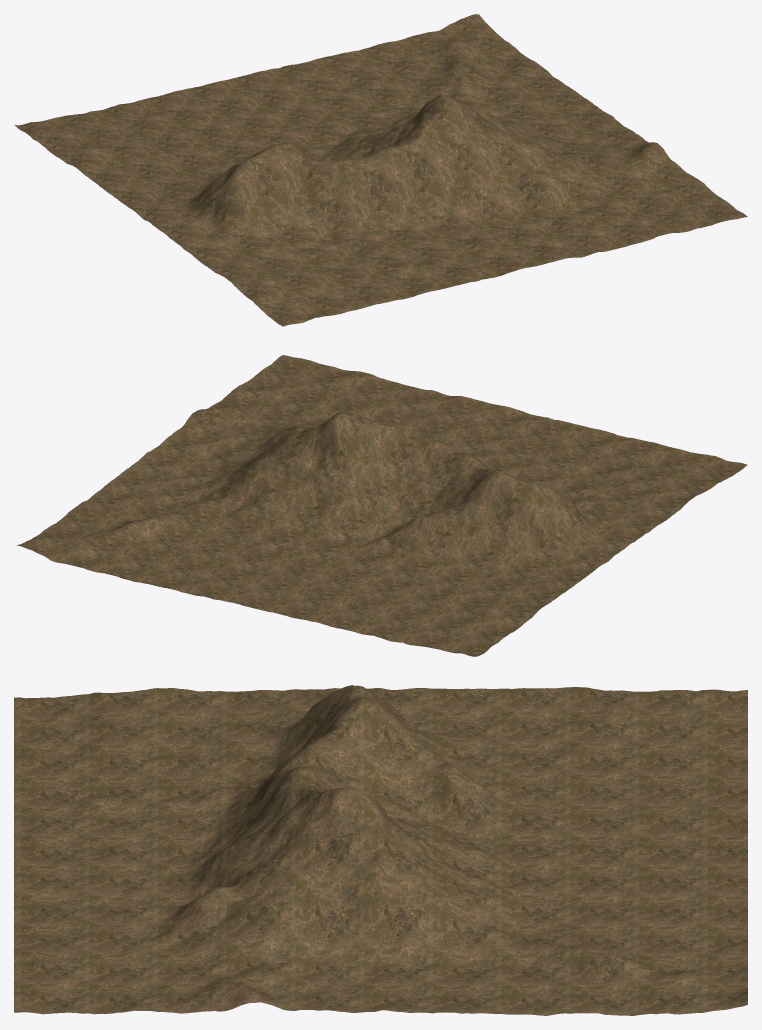
The model's file is bangan hills.glb.
3 views of the same model, one above another, from view 1: azimuth 30°, elevation 25°; view 2: azimuth 150°, elevation 25°; view 3: azimuth 270°, elevation 25° (orthographic). The views are drawn at different scales.
Parts seen in each view (by area): view 1: Cube; view 2: Cube; view 3: Cube.
Boxes of the visible parts, left/top/right/bottom form: Cube: left=14, top=14, right=747, bottom=326; Cube: left=17, top=355, right=747, bottom=656; Cube: left=14, top=685, right=747, bottom=1015.
Bounding box in the file's own units: 29.77 × 8.77 × 29.78.
Materials: 2 (1 with a texture image).
